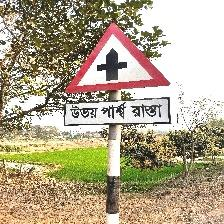Crossroad: (62, 17, 181, 137)
